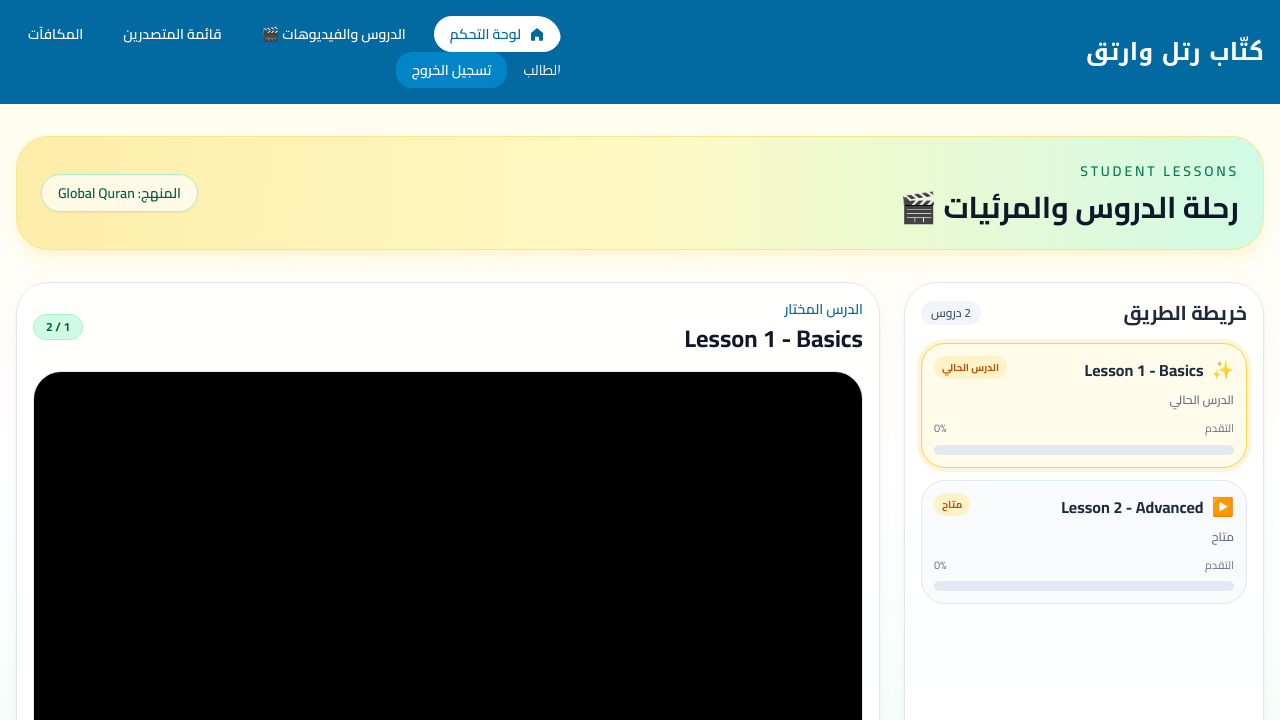
StudentLessons › allows selecting future lessons for a global curriculum and loads its video immediately
This screenshot has width=1280, height=720.
Click the button "▶️ Lesson 2 - Advanced متاح متاح التقدم 0%": (1132, 506) x1=921 y1=480 x2=1247 y2=604
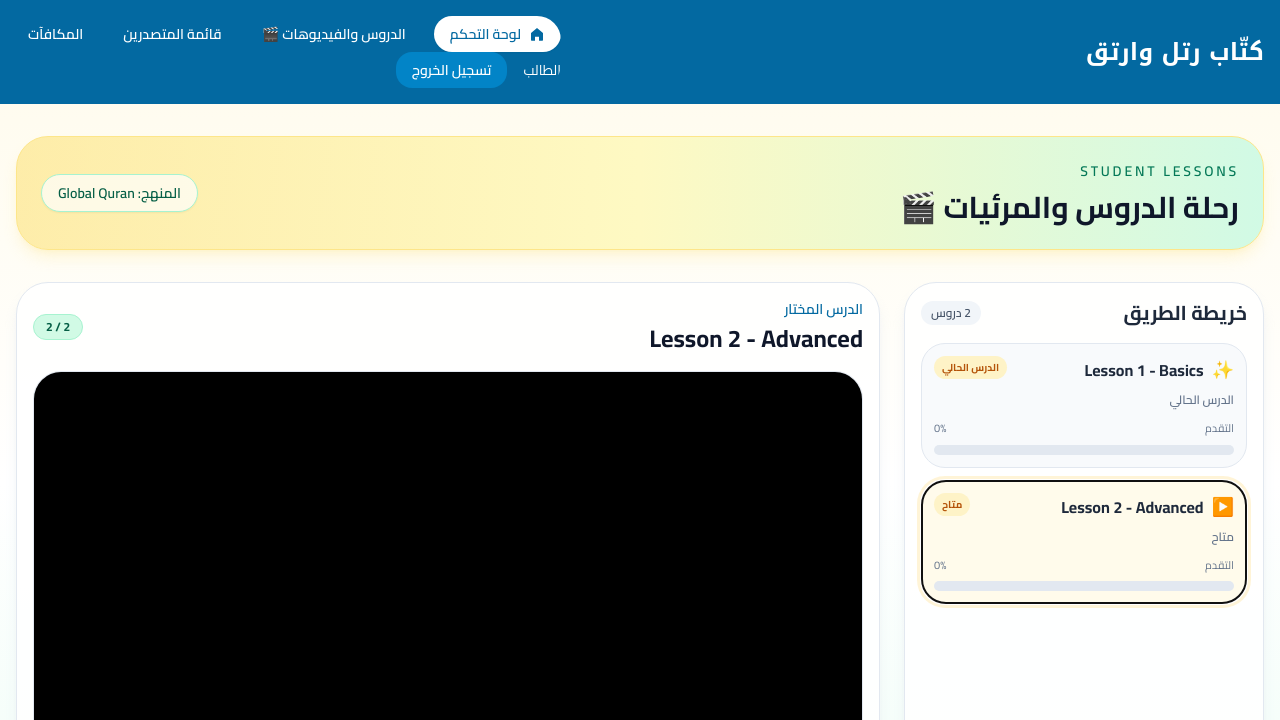
expect the heading "Lesson 2 - Advanced" is shown: met, box x1=649 y1=323 x2=863 y2=355
